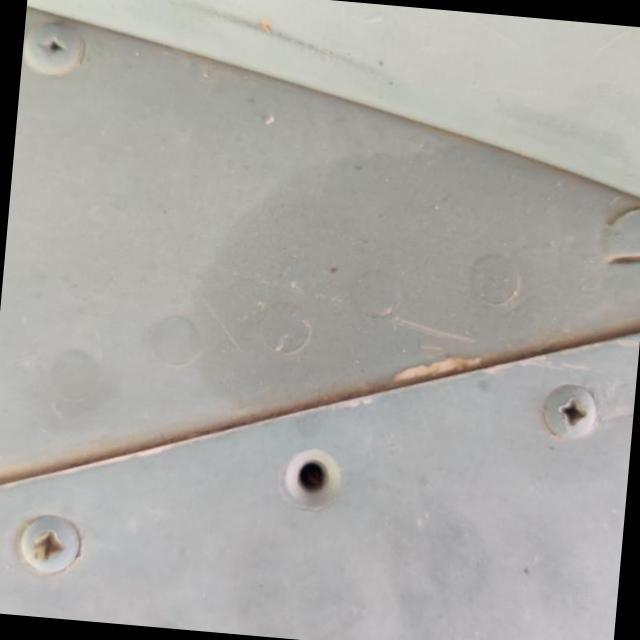Fastener Damage: (258, 428, 380, 540)
